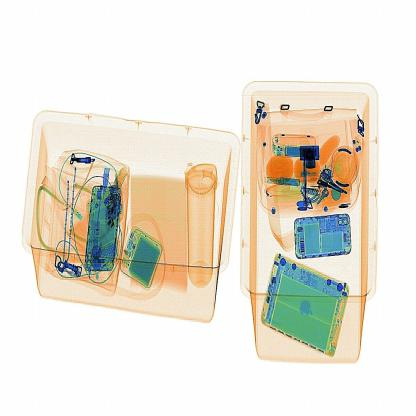knife: (295, 150, 320, 218)
